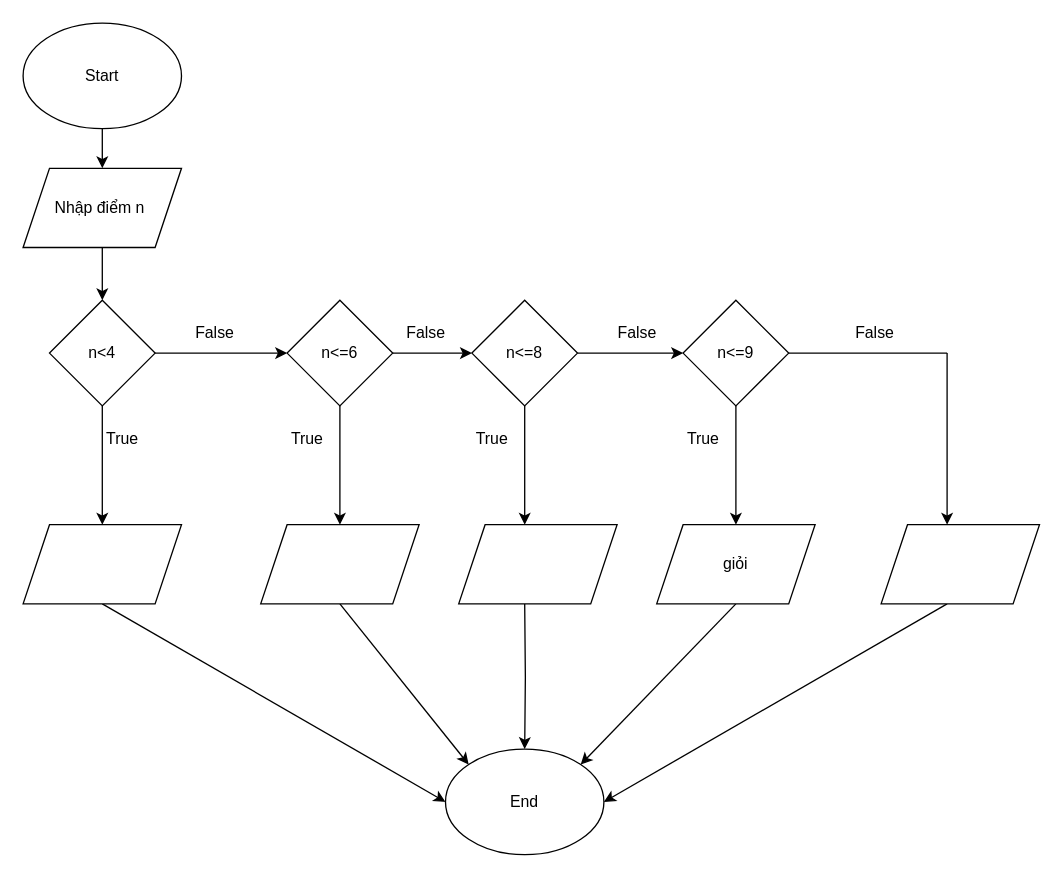
Some shapes in this 1063 by 878 pixel diagram are drawn without their labels. The box of each missing label's shape, as (x1, y1, x2, y2) in pixels:
khá: (457, 523, 617, 604)
không đạt: (22, 523, 182, 604)
trung bình: (259, 523, 419, 604)
xuất sắc: (880, 523, 1040, 604)
